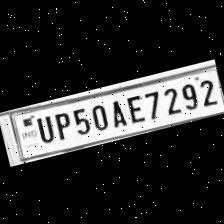0: (84, 98, 110, 131)
2: (156, 82, 182, 116), (192, 74, 218, 108)
5: (66, 103, 92, 136)
7: (139, 87, 164, 120)
9: (174, 78, 200, 111)
A: (103, 94, 127, 128)
E: (120, 89, 147, 124)
P: (47, 107, 74, 141)
U: (30, 110, 55, 144)
